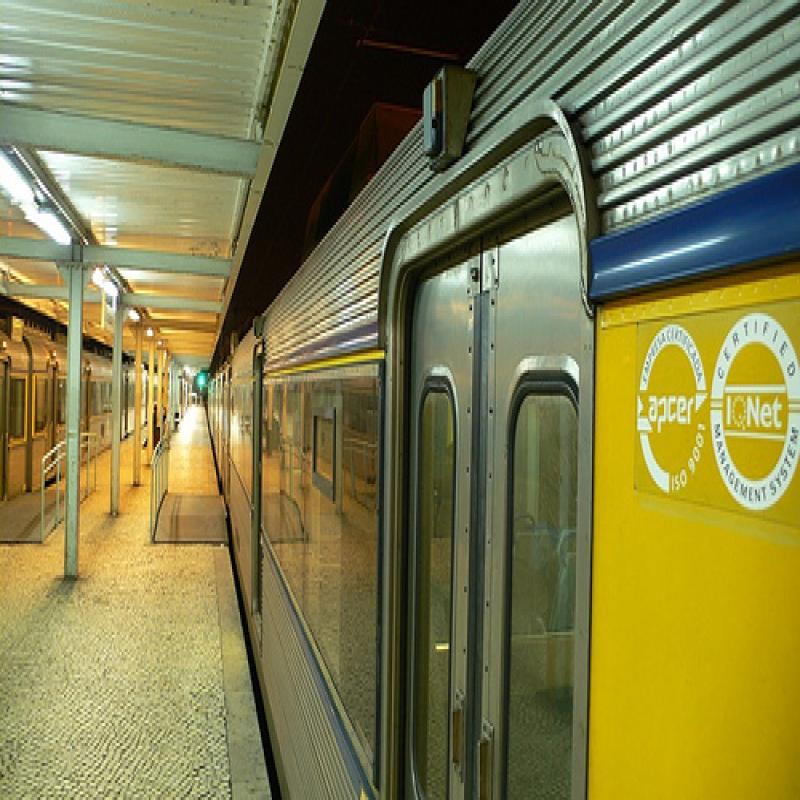train: (209, 4, 800, 800), (3, 317, 160, 511)
